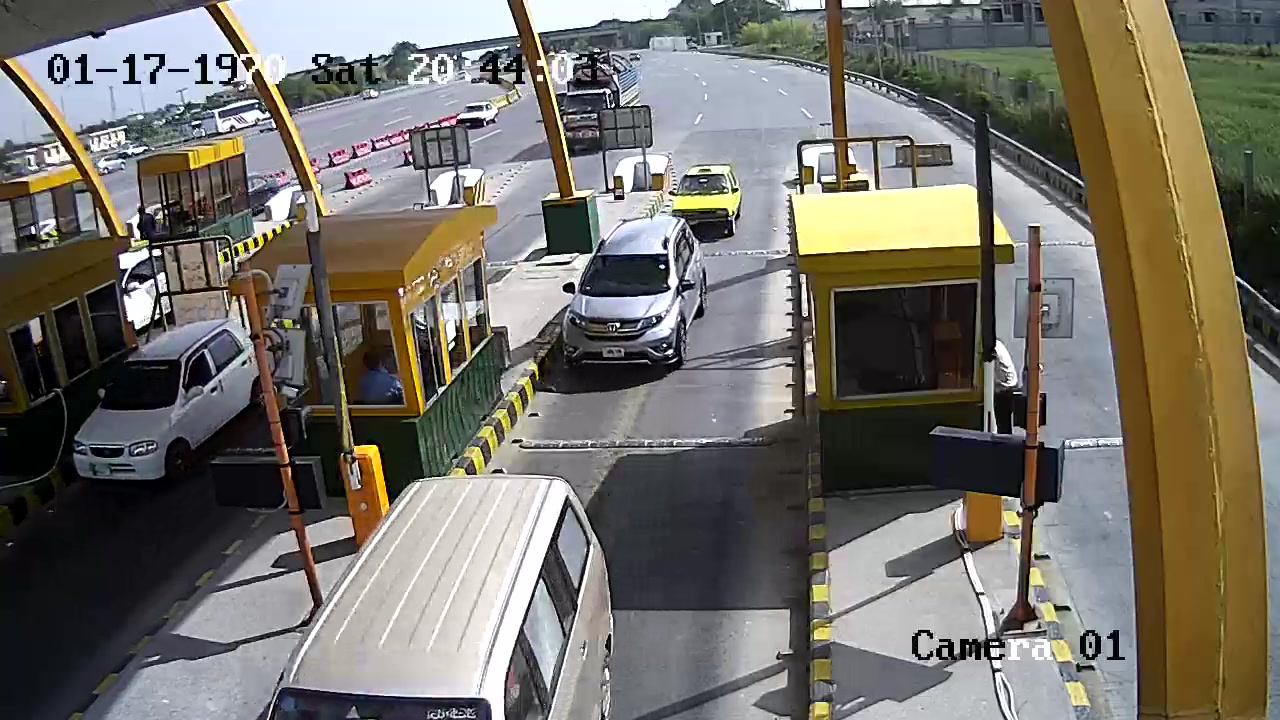F1: (560, 218, 709, 378)
